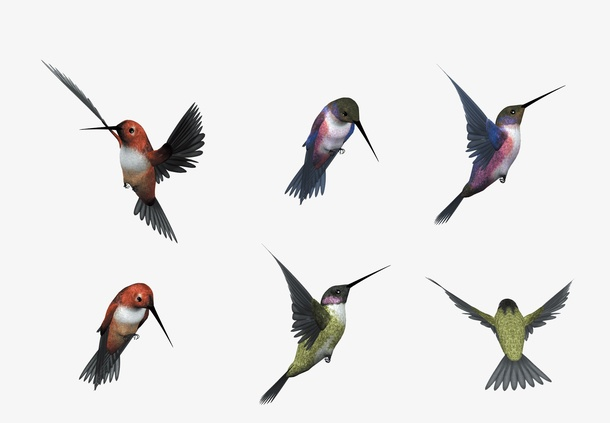bird: (40, 56, 206, 238), (428, 58, 565, 225), (264, 246, 390, 402), (422, 273, 576, 389), (74, 279, 175, 395), (280, 96, 380, 206)
